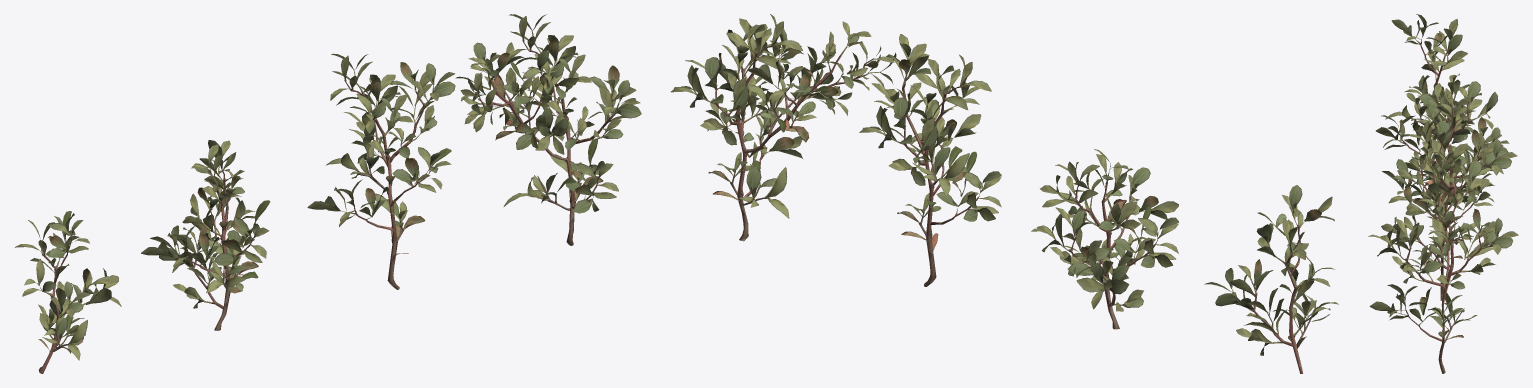
File: shrub_04.glb
3 views of the same model, side by side, from view 1: azimuth 30°, elevation 25°; view 2: azimuth 150°, elevation 25°; view 3: azimuth 270°, elevation 25° (orthographic). The views are drawn at different scales.
Parts seen in each view (by area): view 1: shrub_04; view 2: shrub_04; view 3: shrub_04.
Boxes of the visible parts, left/top/right/bottom form: shrub_04: left=15, top=14, right=641, bottom=373; shrub_04: left=671, top=14, right=1338, bottom=373; shrub_04: left=1368, top=14, right=1518, bottom=373.
Bounding box in the file's own units: 0.5837 × 0.2192 × 0.1461.
Materials: 1 (1 with a texture image).
